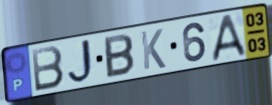6: (181, 21, 209, 64)
A: (211, 12, 249, 63)
B: (30, 44, 66, 94), (103, 33, 136, 81)
J: (66, 37, 98, 87)
K: (139, 27, 168, 72)
